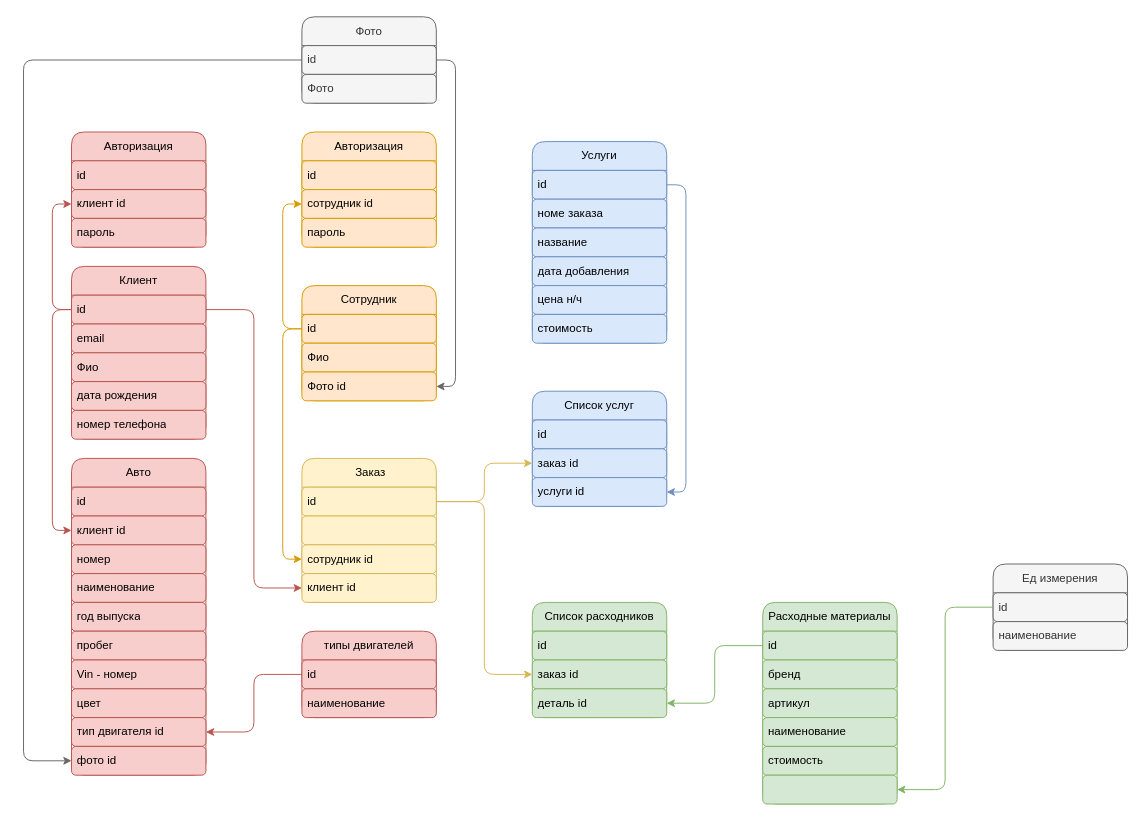
Image size: 1144x821. Some labels were removed from this diagram. Here are the shapes that lost their labels. From the top down, the centre of each, then its label:
pixel 368 530: Дата
pixel 829 789: ед. измерения id
